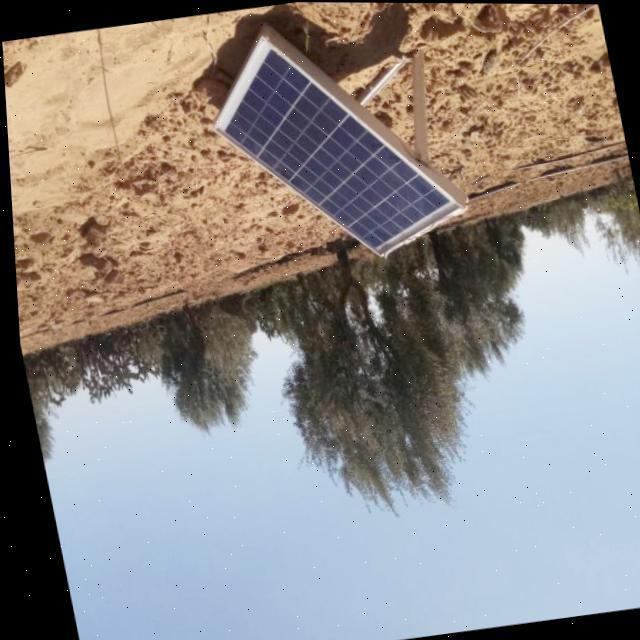Normal Solar Panel: (195, 13, 468, 275)
